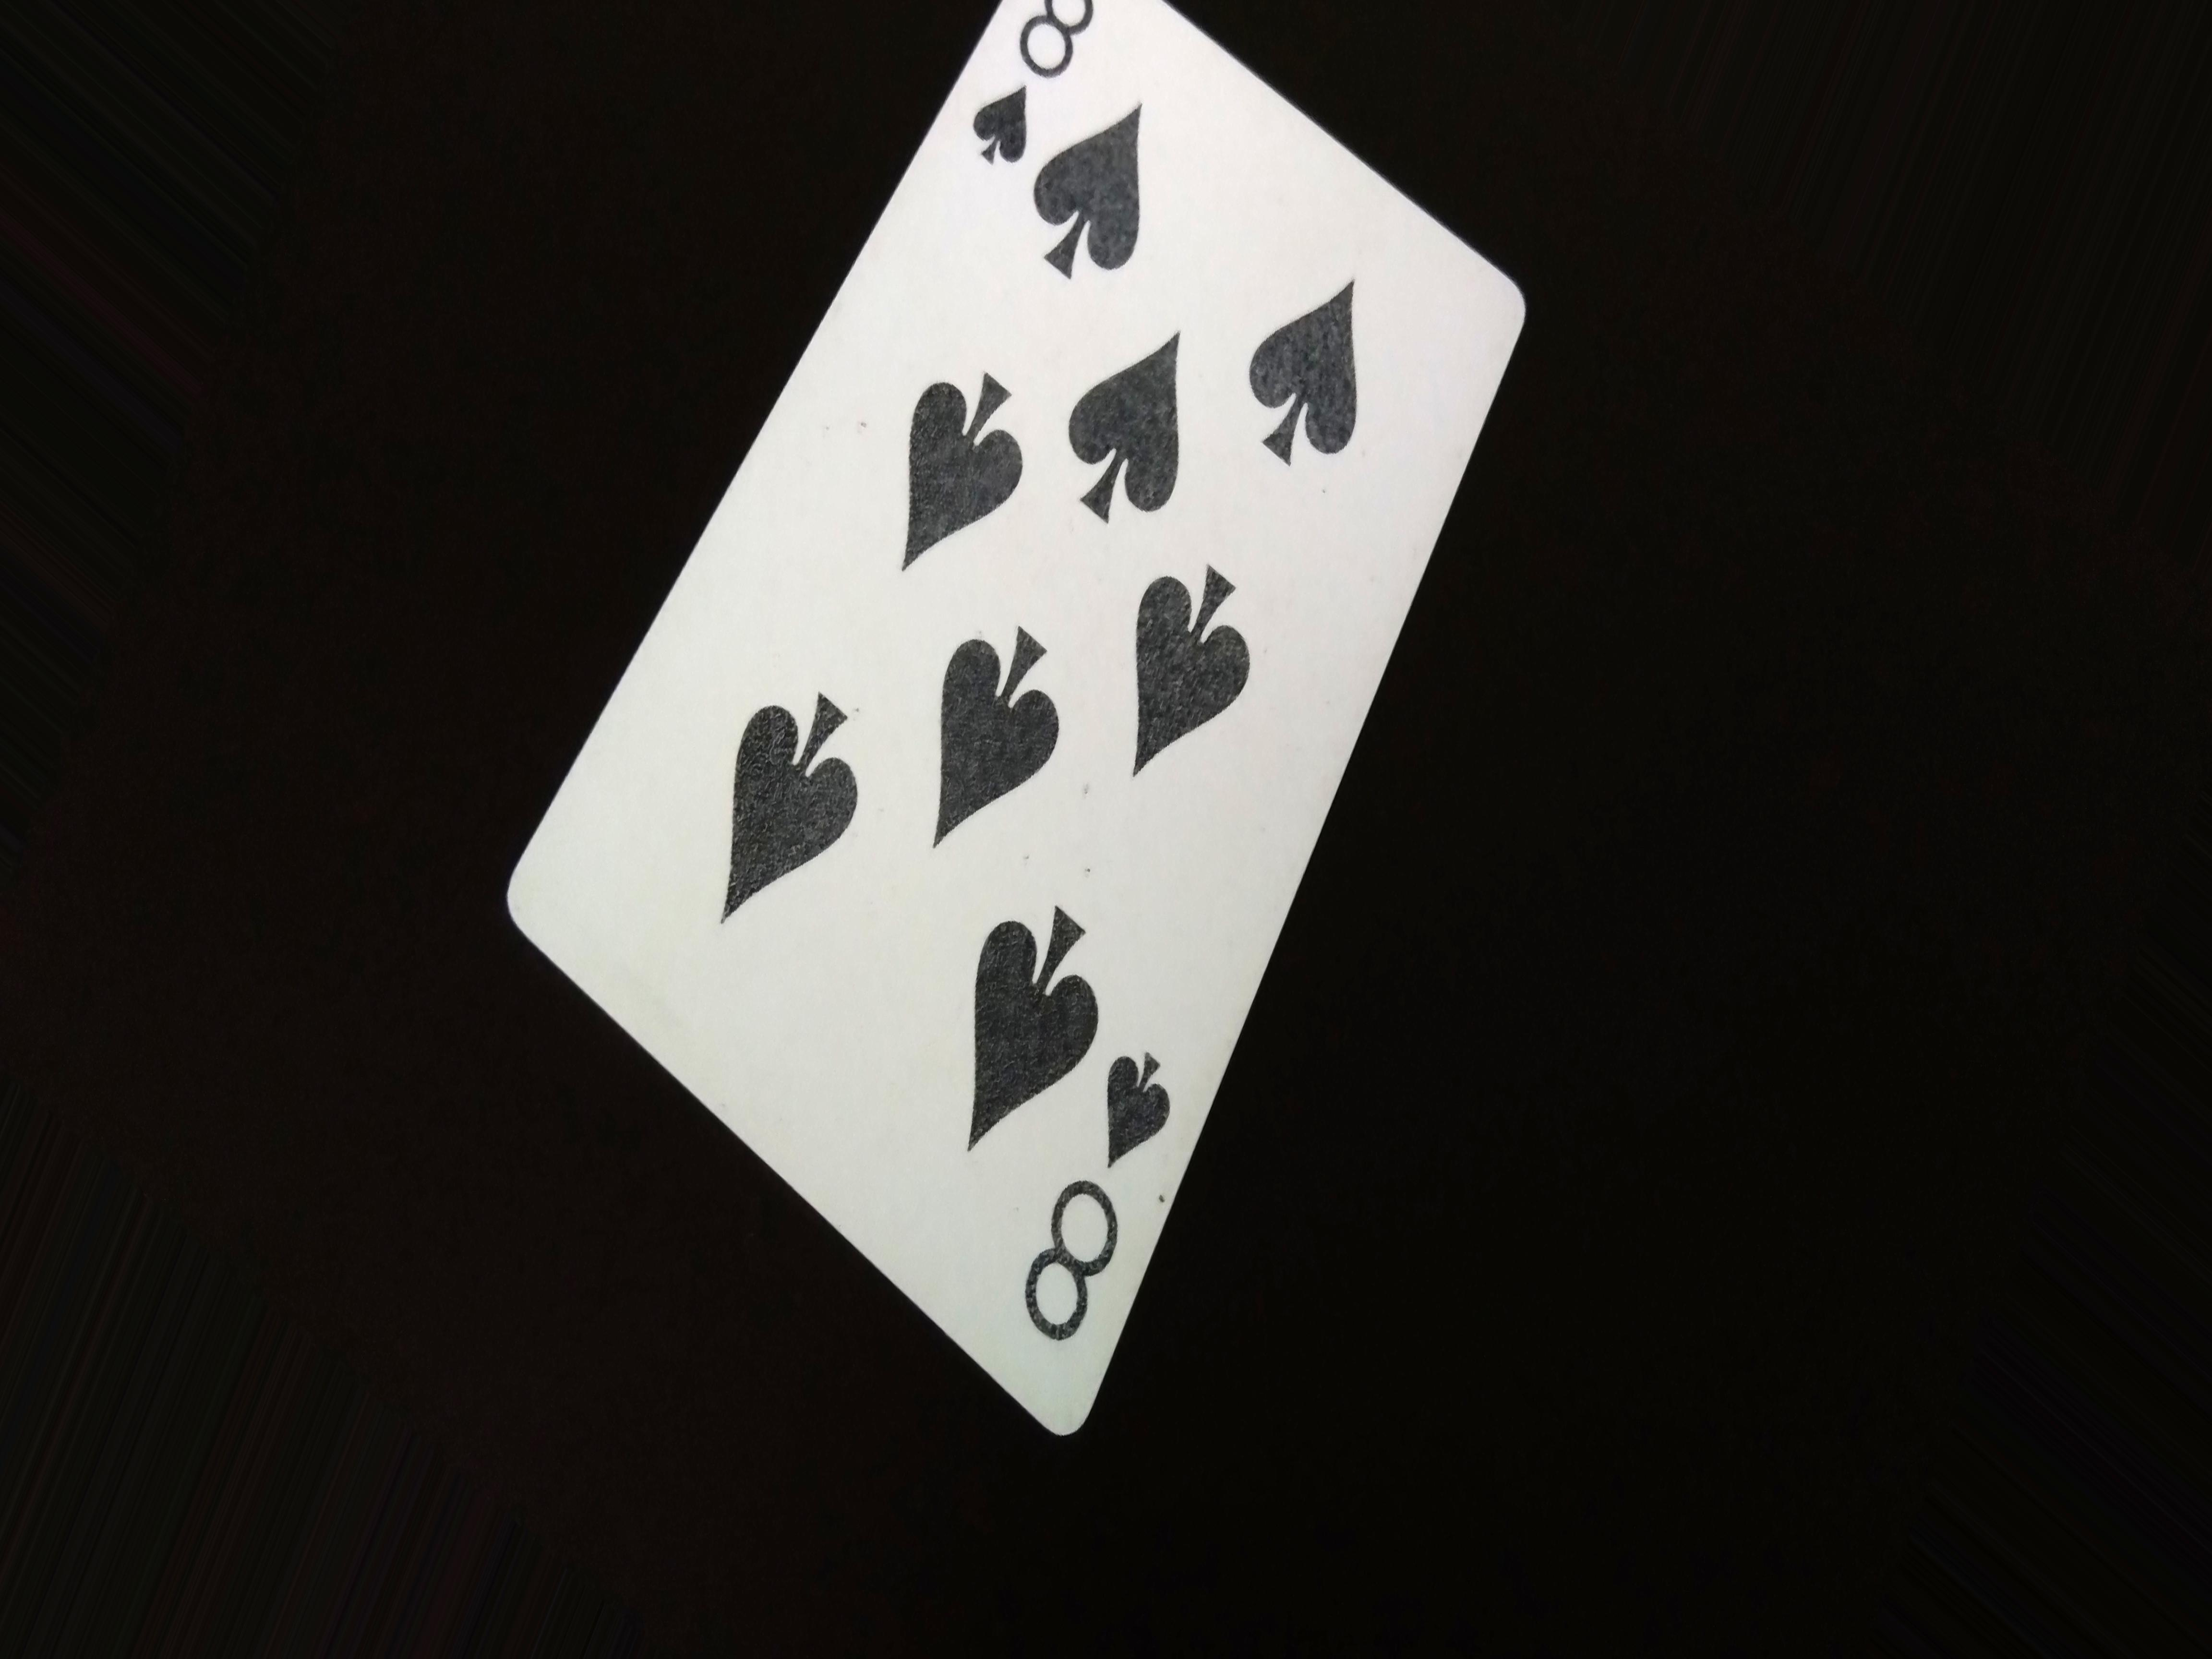8S: (970, 0, 1118, 185)
